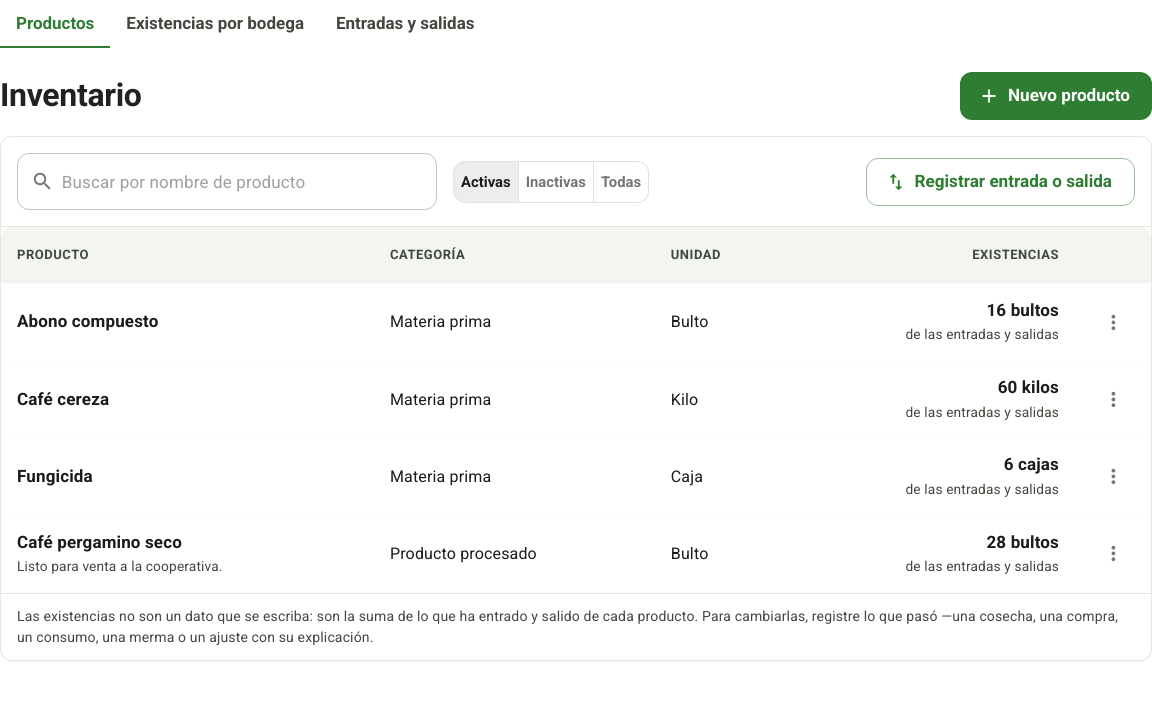
Test case: the product form › opens from the row menu and saves
Click the button named "Acciones de Café pergamino seco" at [1113, 554], box [1091, 532, 1135, 576]
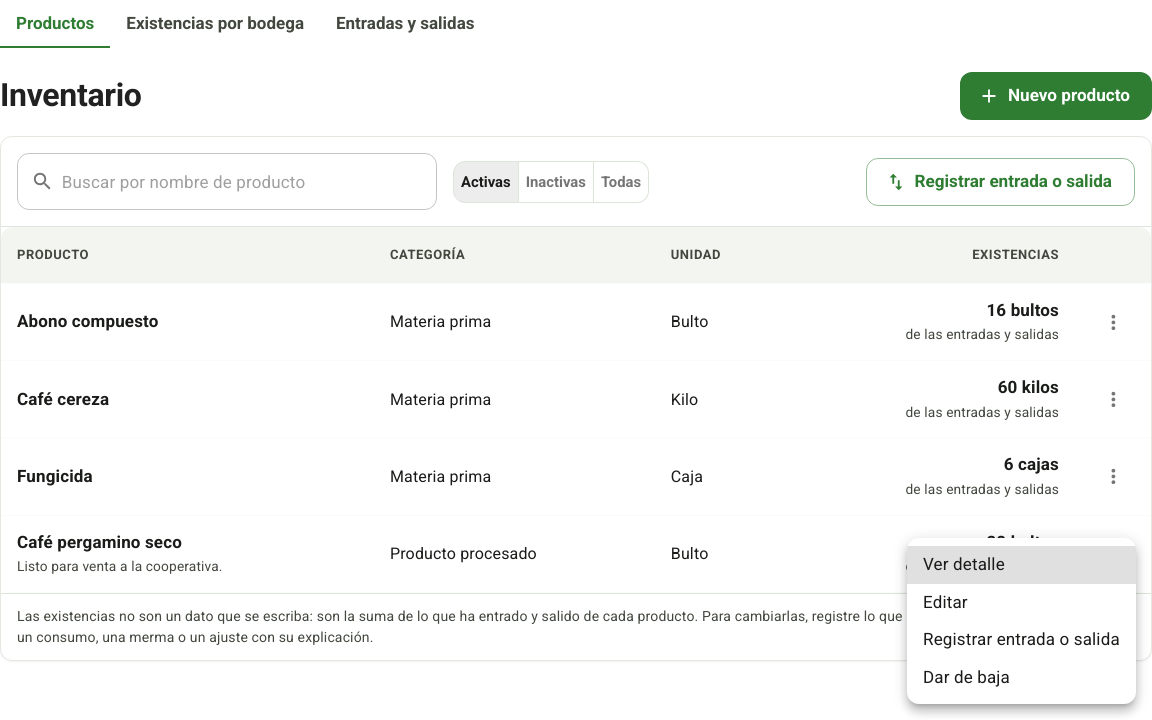
Click the menu item "Editar" at [945, 602], box [923, 592, 968, 612]
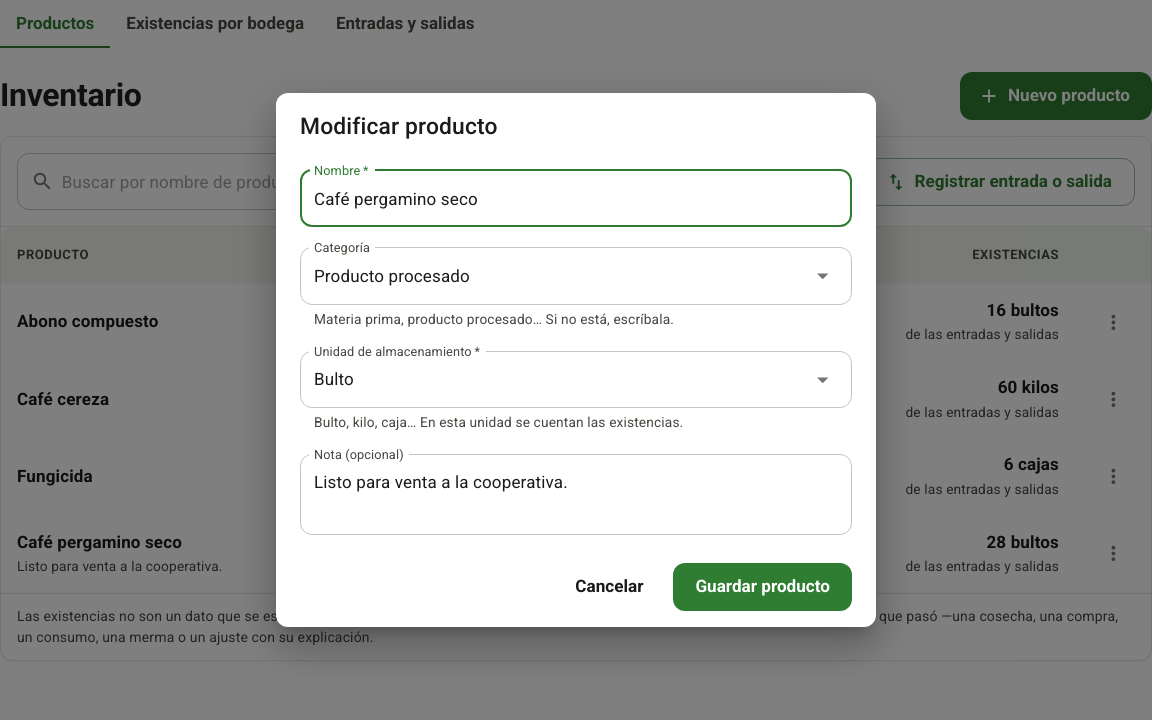
Replace the text in the field labelled "Nombre *" with "Café pergamino especial" at [576, 199], box [300, 170, 852, 227]
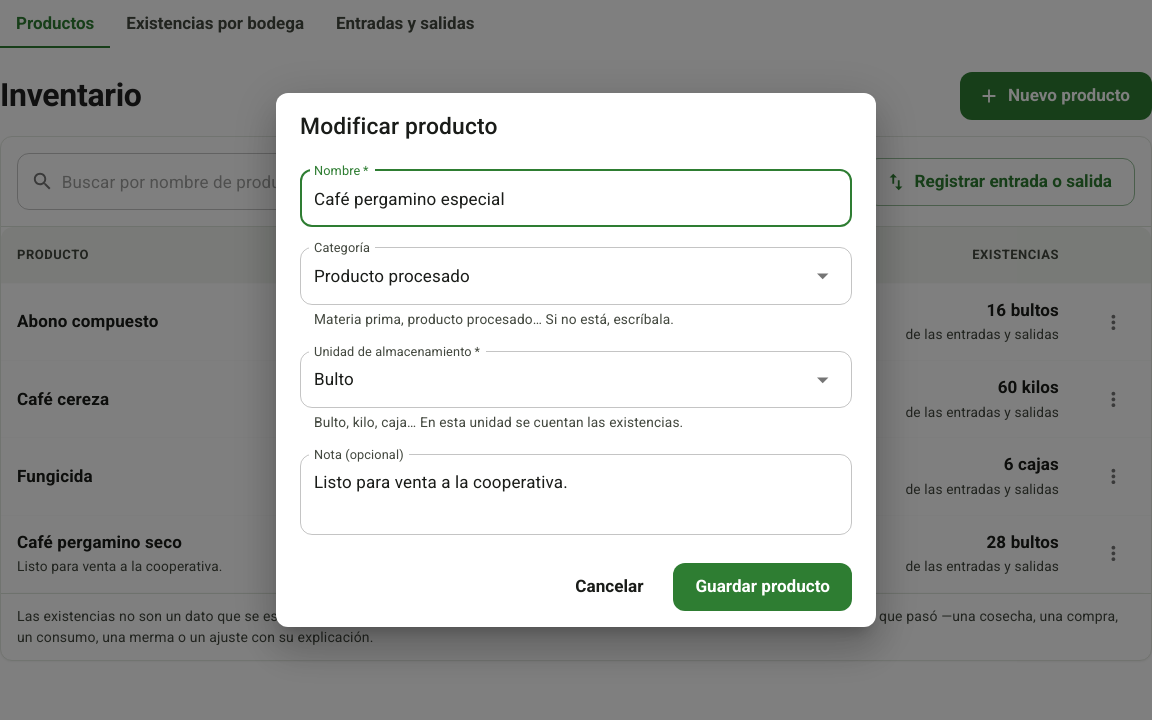
Click the button "Guardar producto" at [763, 587], box [673, 563, 852, 611]
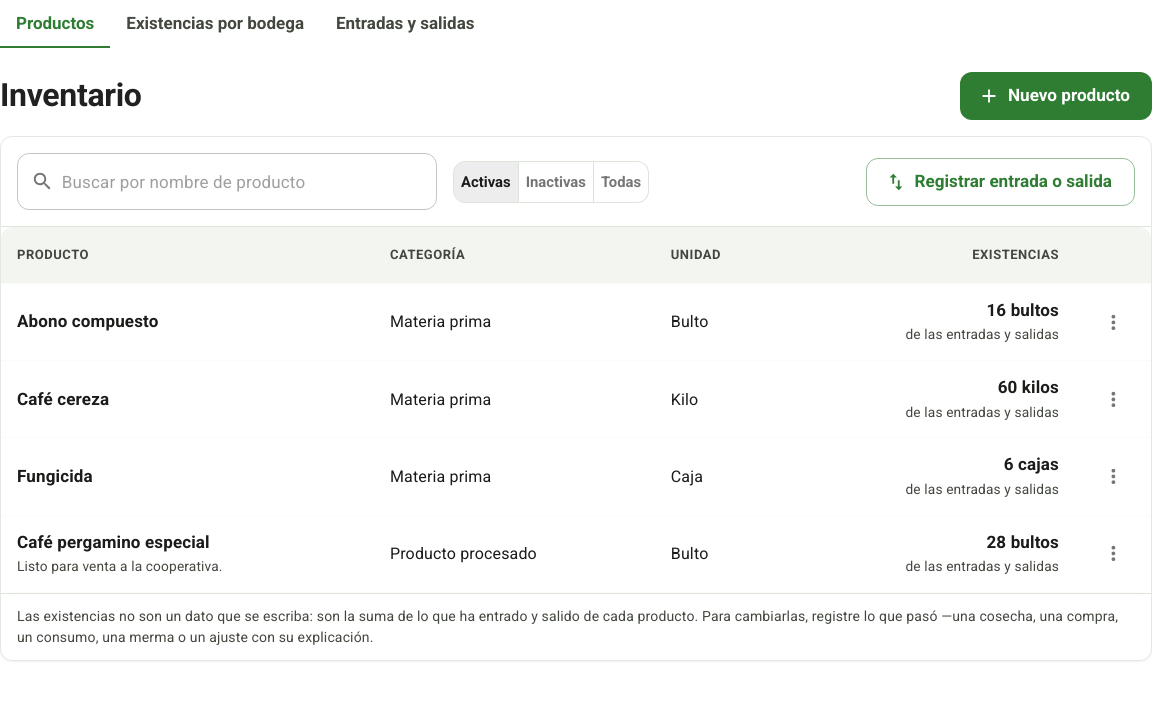
Expected: the dialog is gone
Expected: the text "Café pergamino especial" is shown, [17, 532, 210, 552]
